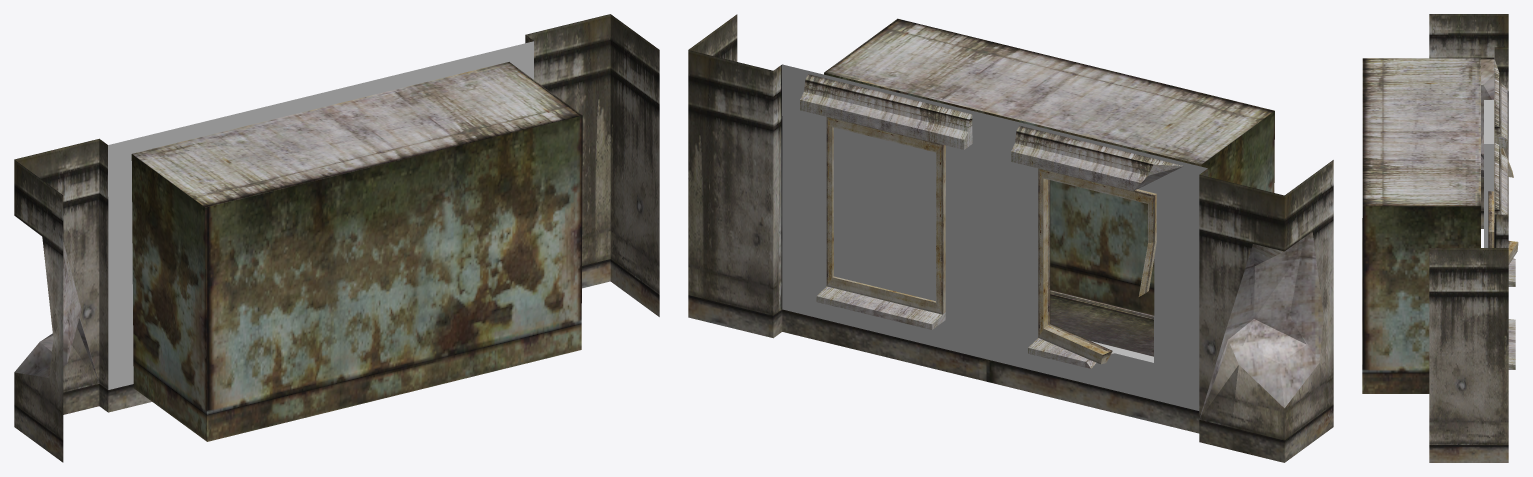
Rendered from Store_front_2_C.fbx.
3 renders of one model, left to right at view 1: azimuth 30°, elevation 25°; view 2: azimuth 150°, elevation 25°; view 3: azimuth 270°, elevation 25°, orthographic. The views are drawn at different scales.
Parts seen in each view (by area): view 1: Store_front_2_C; view 2: Store_front_2_C; view 3: Store_front_2_C.
Boxes of the visible parts, <box> form: Store_front_2_C: <box>14,14,659,462</box>; Store_front_2_C: <box>688,14,1333,462</box>; Store_front_2_C: <box>1362,14,1518,462</box>.
Size of the model in its own units: 700 by 300 by 197.
